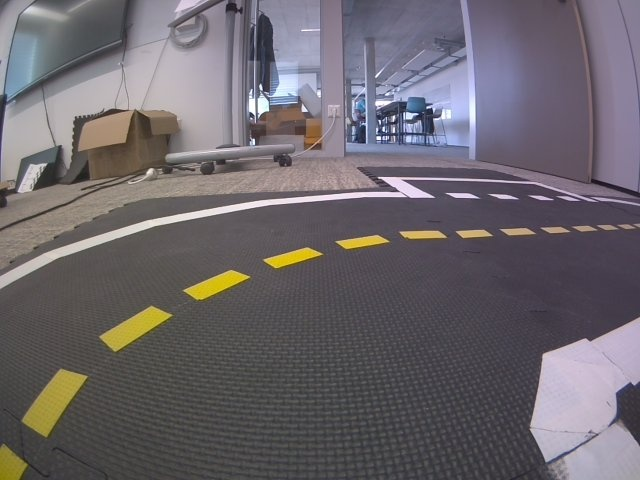freeSpot: (379, 176, 597, 203)
